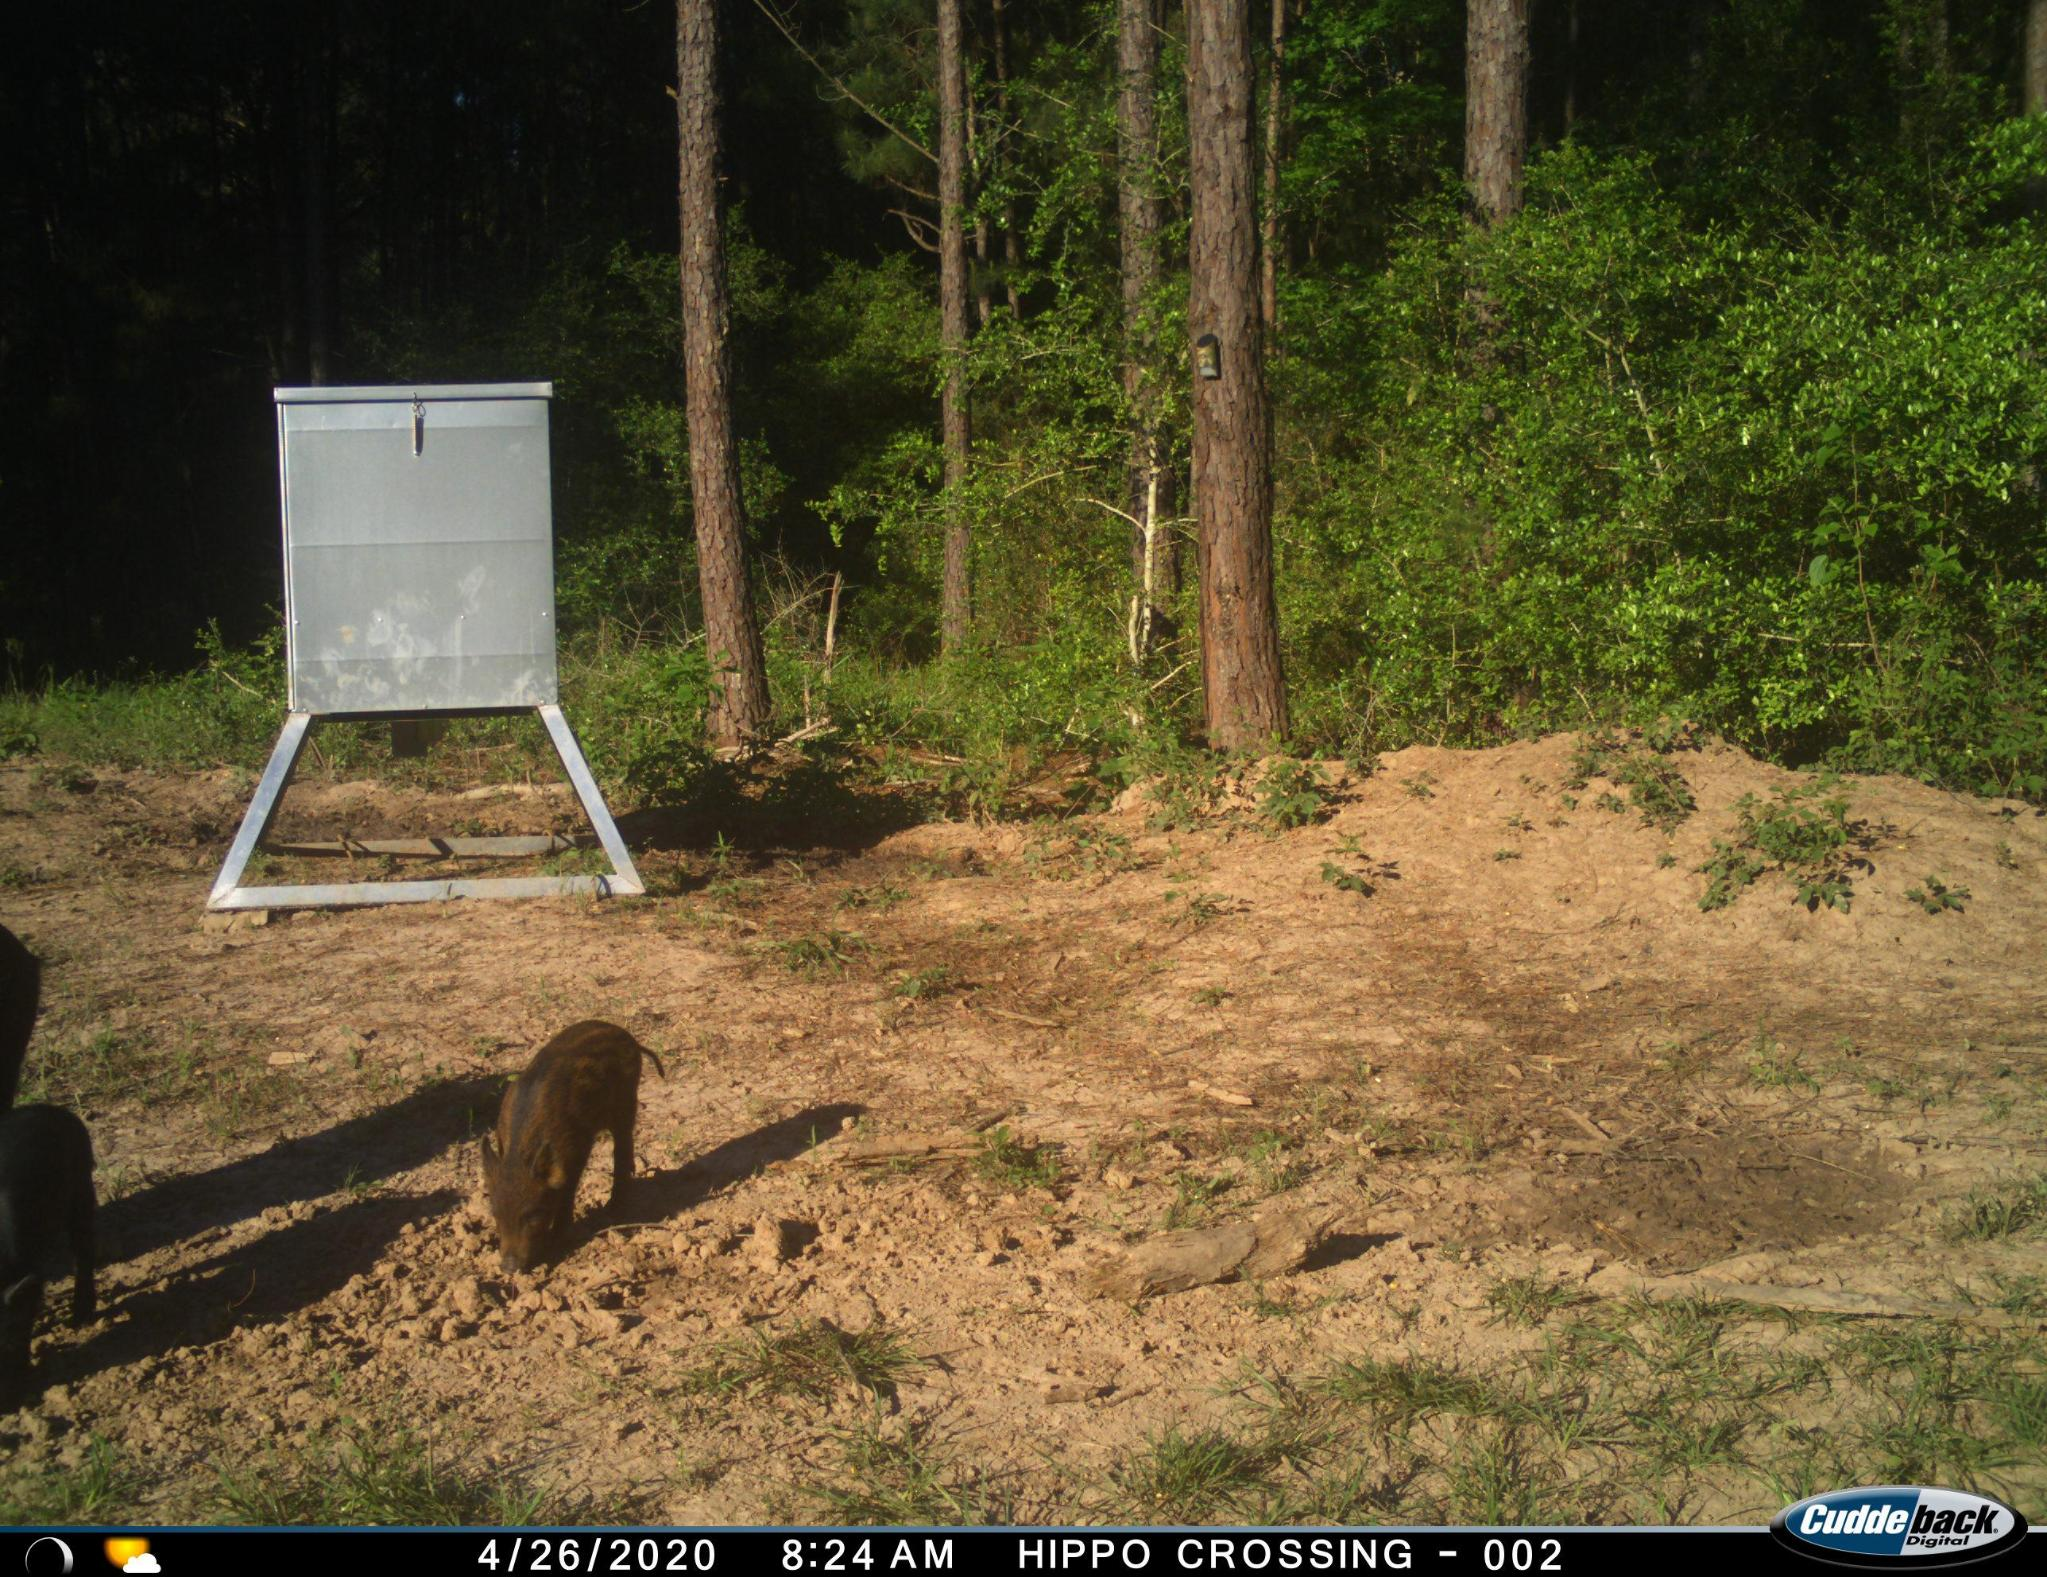Hog: (475, 1012, 684, 1272), (0, 1093, 124, 1418)
